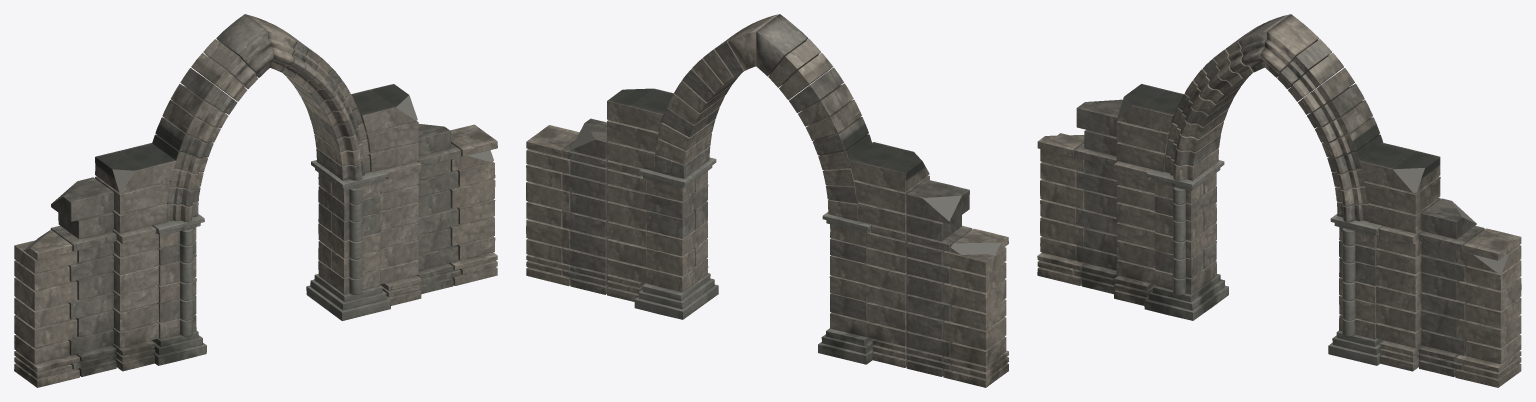
The model's file is portal-composition-v7-parts.glb.
3 renders of one model, left to right at view 1: azimuth 30°, elevation 25°; view 2: azimuth 150°, elevation 25°; view 3: azimuth 330°, elevation 25°, orthographic.
Parts seen in each view (by area): view 1: Portal_LoweredOuterWings.005; view 2: Portal_LoweredOuterWings.005; view 3: Portal_LoweredOuterWings.005.
Boxes of the visible parts, <box> form: Portal_LoweredOuterWings.005: <box>14,14,497,387</box>; Portal_LoweredOuterWings.005: <box>526,14,1008,387</box>; Portal_LoweredOuterWings.005: <box>1037,14,1521,387</box>.
Size of the model in its own units: 9.58 by 5.99 by 1.29.
Materials: 2 (1 with a texture image).
